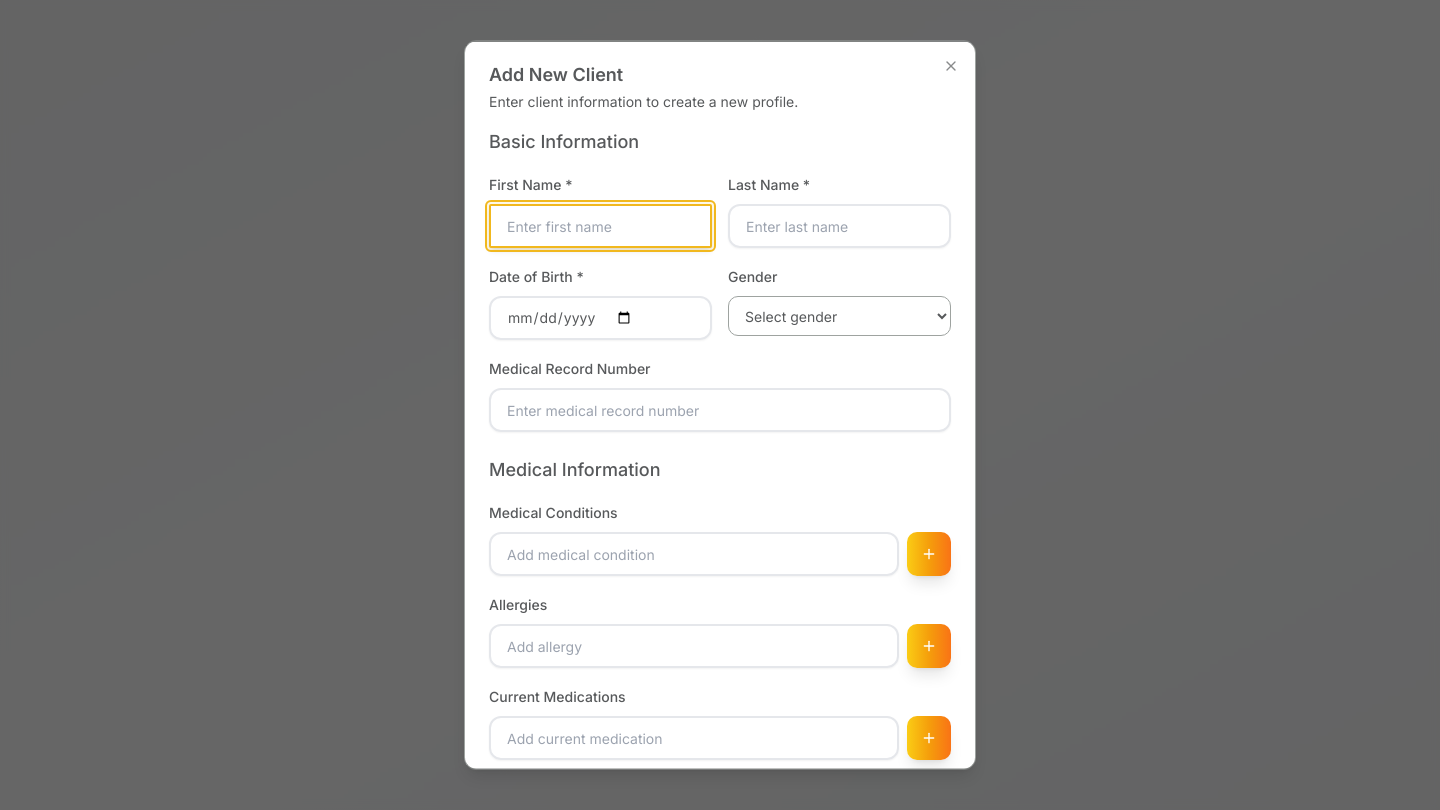
Test: ClientDialog › allows adding allergies
// Add an allergy
In the field with placeholder "Add allergy": (694, 646) [489,624,899,668], type "Penicillin"
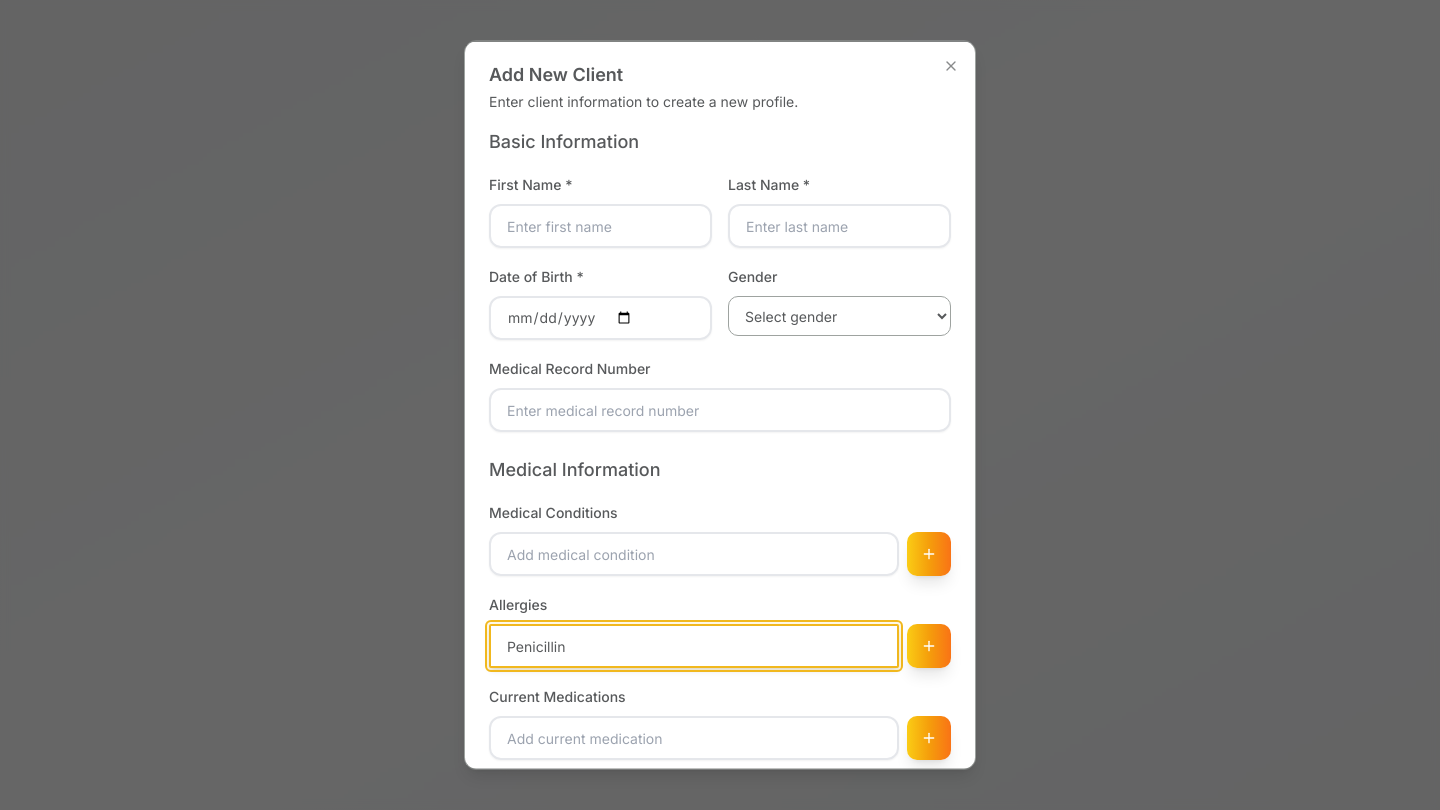
Press Enter
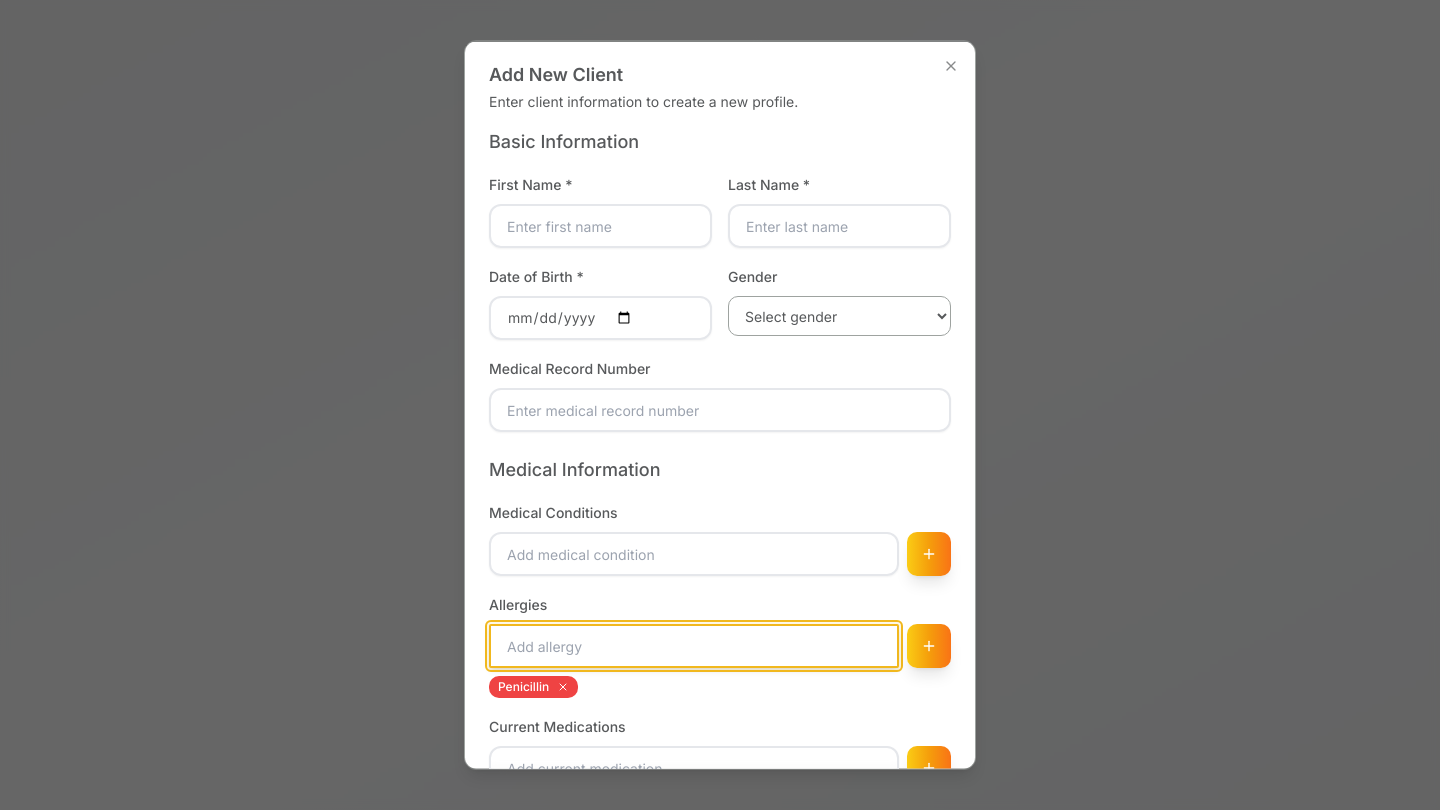
Expected: the text "Penicillin" is shown, [489,676,578,698]
